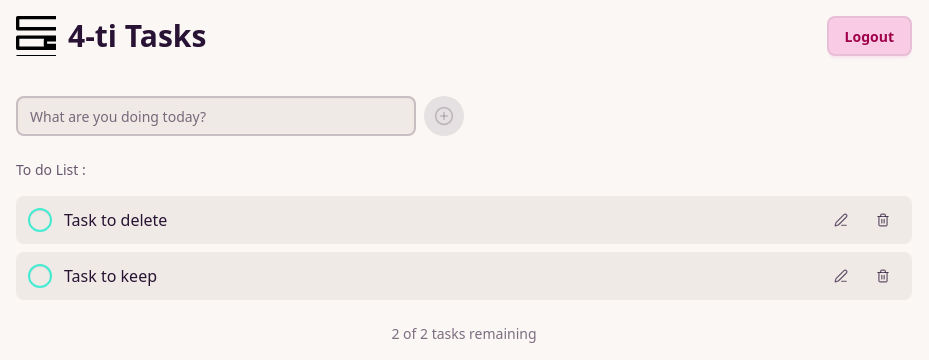
Test: DashboardPage CRUD Operations › DELETE - Removing Tasks › should delete a task successfully
Expected: the text "Task to delete" is shown, 64,209 -> 167,231
Expected: the text "Task to keep" is shown, 64,265 -> 157,287
Click the 1st button with test id "delete-button": click(883, 220) 866,208 -> 900,232
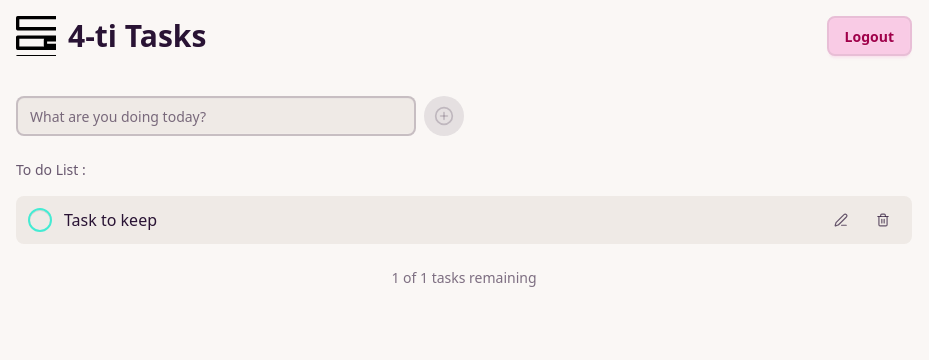
Expected: the text "Task to keep" is shown, 64,209 -> 157,231
Expected: the text "Task to delete" is gone
